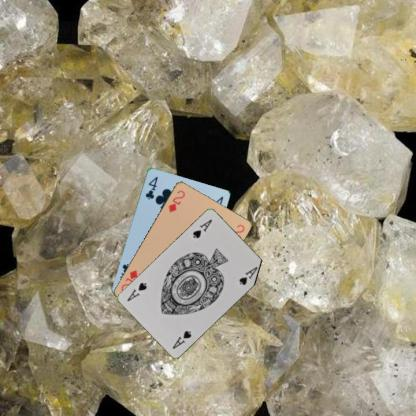2d: (166, 187, 186, 213)
4c: (143, 174, 159, 200)
As: (190, 216, 214, 239), (170, 328, 192, 350)
